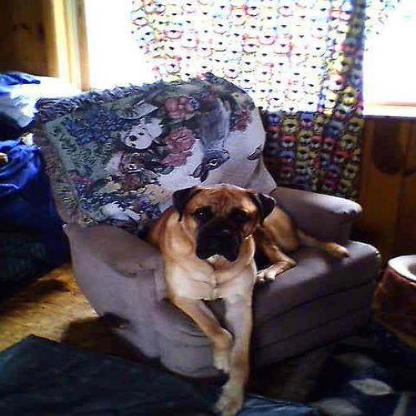bull_mastiff: (143, 179, 355, 413)
